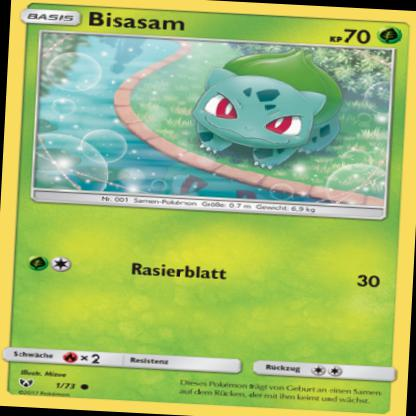Bulbasaur: (189, 42, 352, 174)
